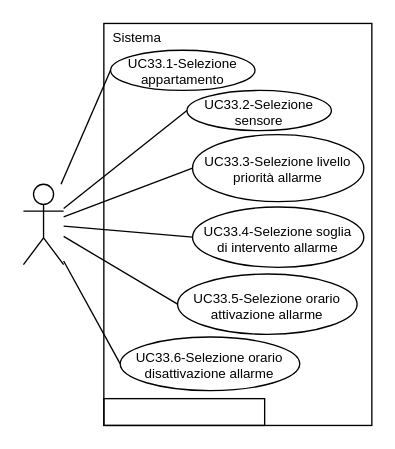
This 395x449 diagram has some shape labels left out. The shapes that lost their labels are listed below. From the top down, each one's centre as x and y in pixels, then its label:
the point at 43,224: Utente
the point at 184,411: UC33-Creazione allarme
